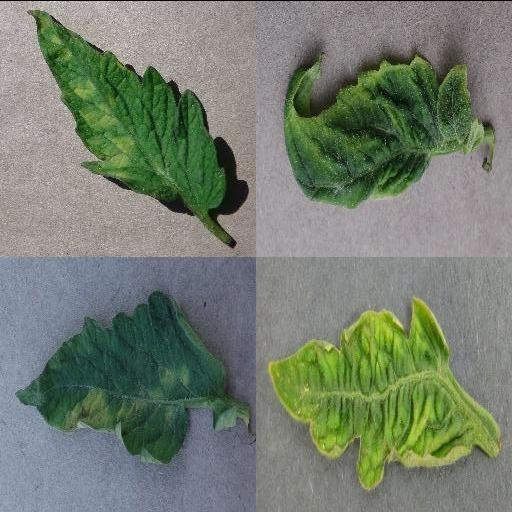Leaf Mold: (26, 9, 228, 211), (14, 288, 228, 461)
Yellow Leaf Curl Virus: (266, 294, 476, 488), (283, 55, 483, 211)
